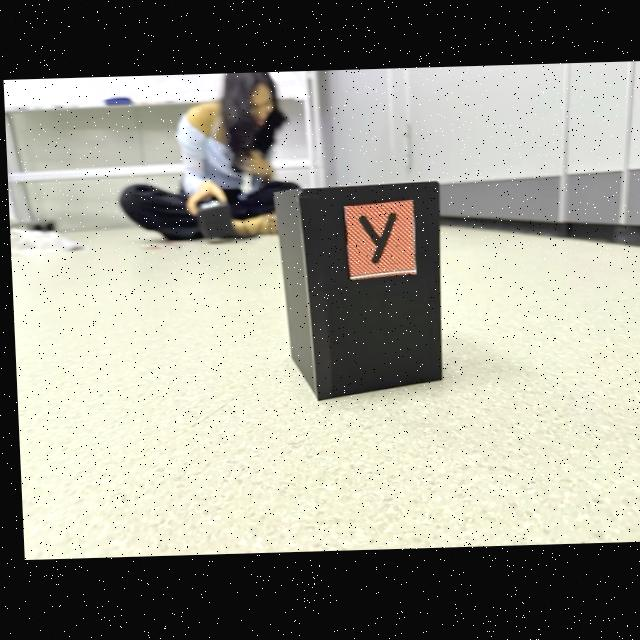Y: (357, 216, 395, 267)
